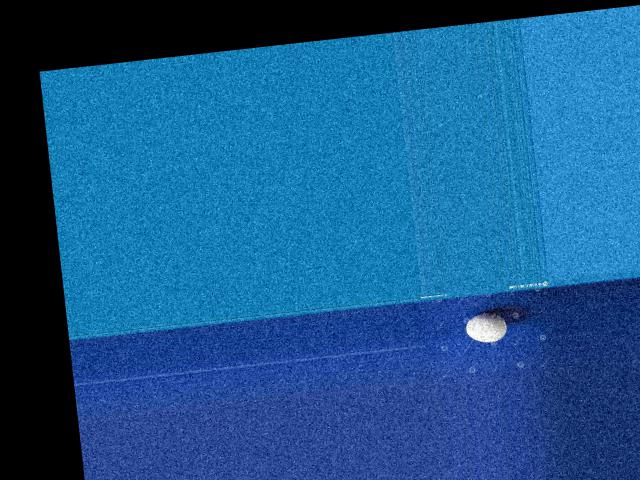egg: (463, 310, 507, 344)
